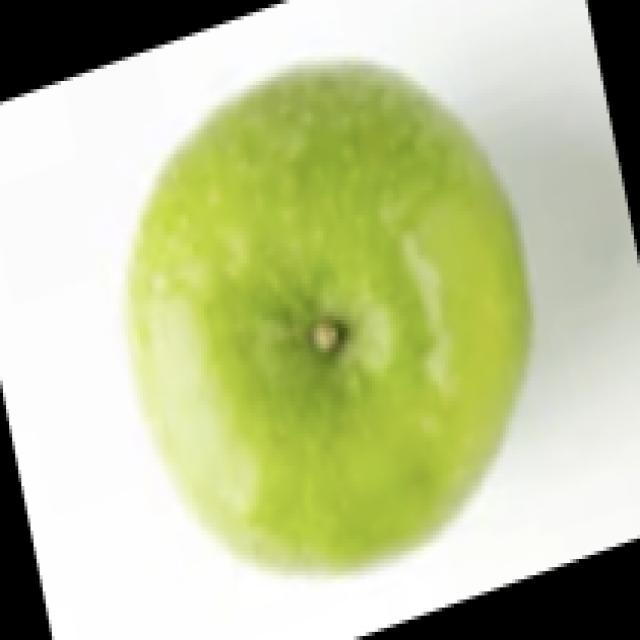Fresh Apple: (135, 68, 515, 570)
